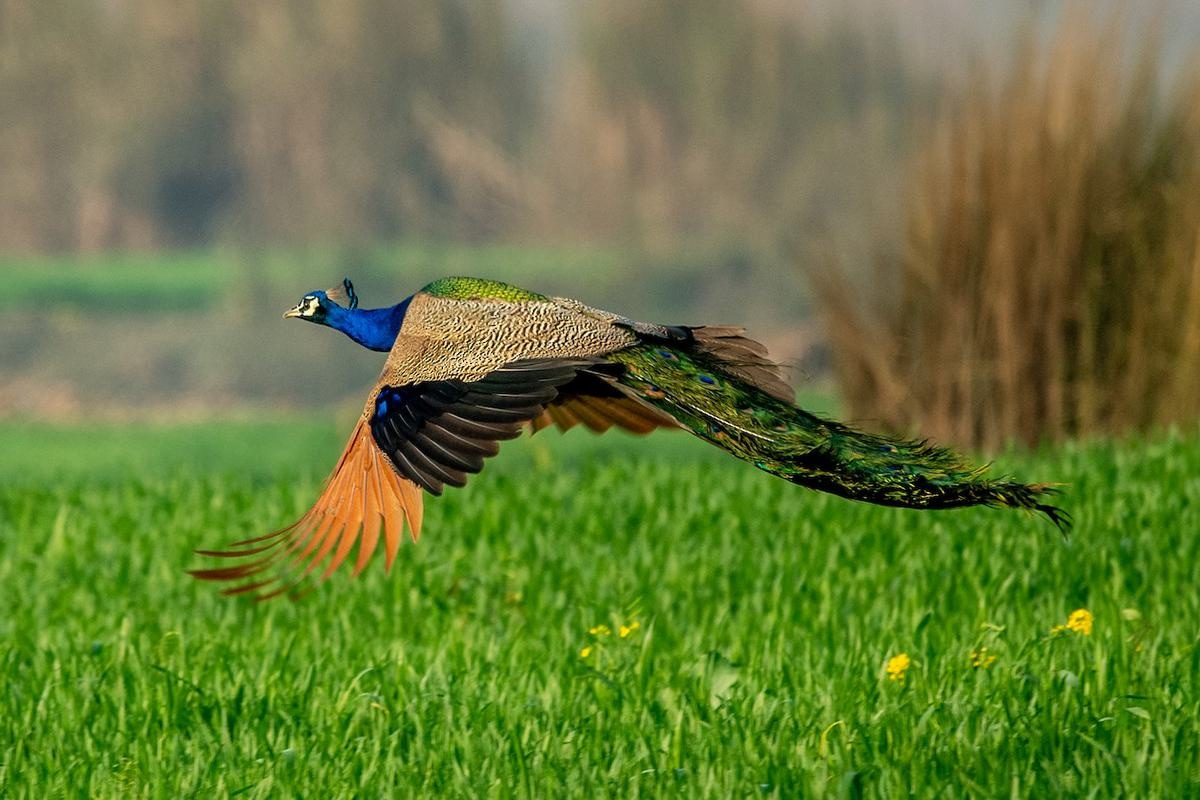peacock: (218, 251, 1021, 601)
